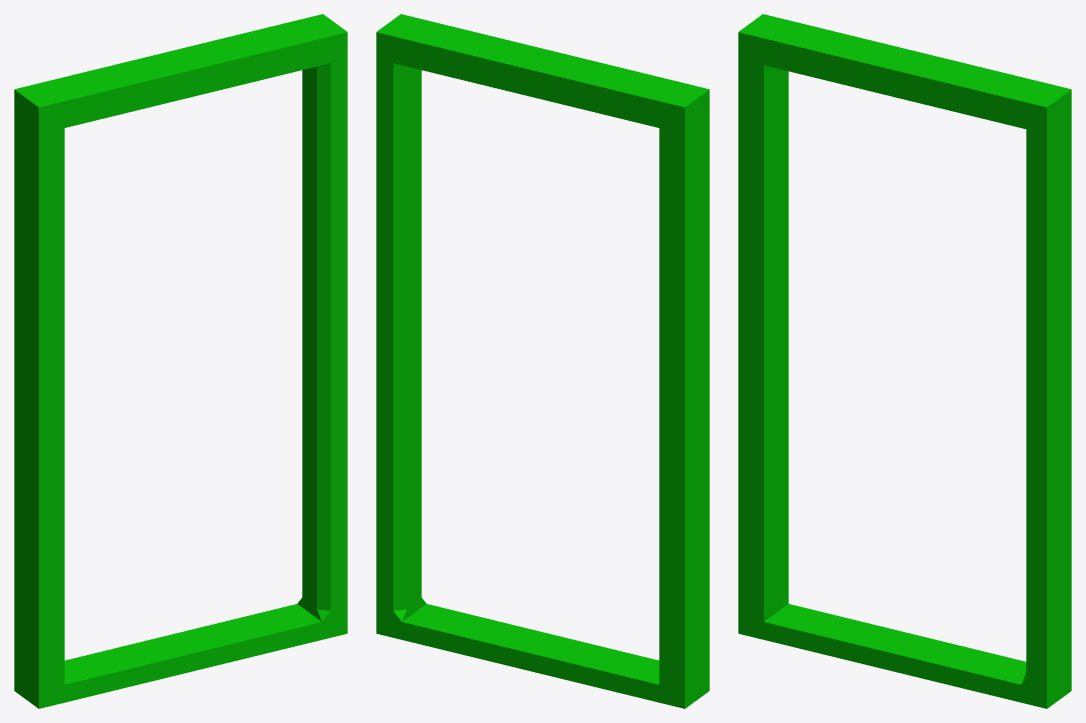
File: UCX_Door2Frame.fbx
3 views of the same model, side by side, from view 1: azimuth 30°, elevation 25°; view 2: azimuth 150°, elevation 25°; view 3: azimuth 330°, elevation 25° (orthographic).
Visible parts, largest first — view 1: UCX_Door2Frame; view 2: UCX_Door2Frame; view 3: UCX_Door2Frame.
Boxes of the visible parts, x1,y1,x2,y2 form: UCX_Door2Frame: (14, 14, 347, 708); UCX_Door2Frame: (376, 14, 709, 708); UCX_Door2Frame: (738, 14, 1071, 708).
Bounding box in the file's own units: 1.13 × 2.11 × 0.1576.
